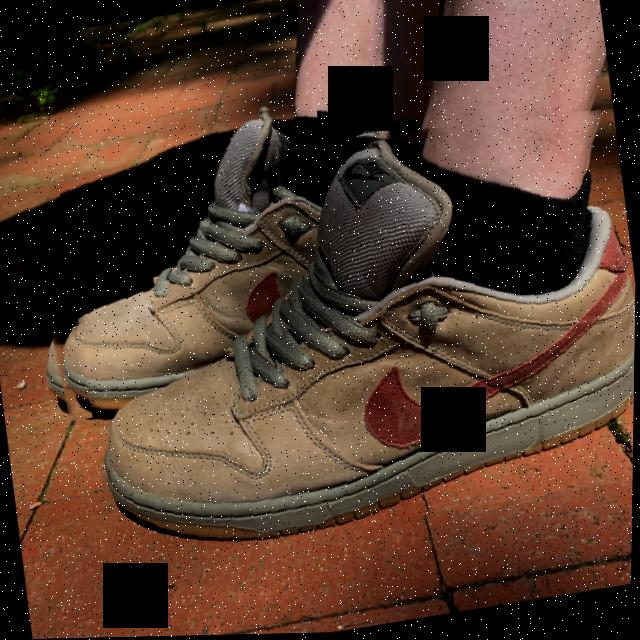shoe: (52, 82, 639, 568), (11, 97, 355, 426)
